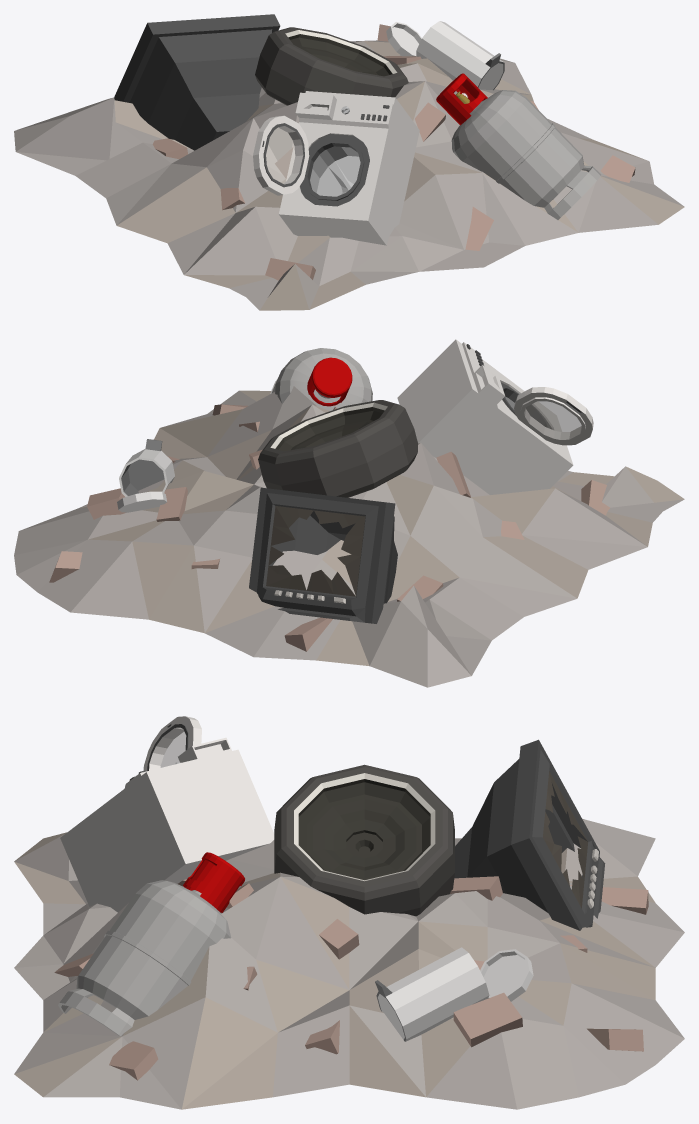
Rendered from junkPile.fbx.
3 renders of one model, top to bottom at view 1: azimuth 30°, elevation 25°; view 2: azimuth 150°, elevation 25°; view 3: azimuth 270°, elevation 25°, orthographic. The views are drawn at different scales.
Parts seen in each view (by area): view 1: junkPile; view 2: junkPile; view 3: junkPile.
Boxes of the visible parts, x1,y1,x2,y2 form: junkPile: (14, 14, 684, 310); junkPile: (14, 339, 684, 687); junkPile: (14, 716, 684, 1109).
Bounding box in the file's own units: 12.15 × 4.19 × 12.15.
